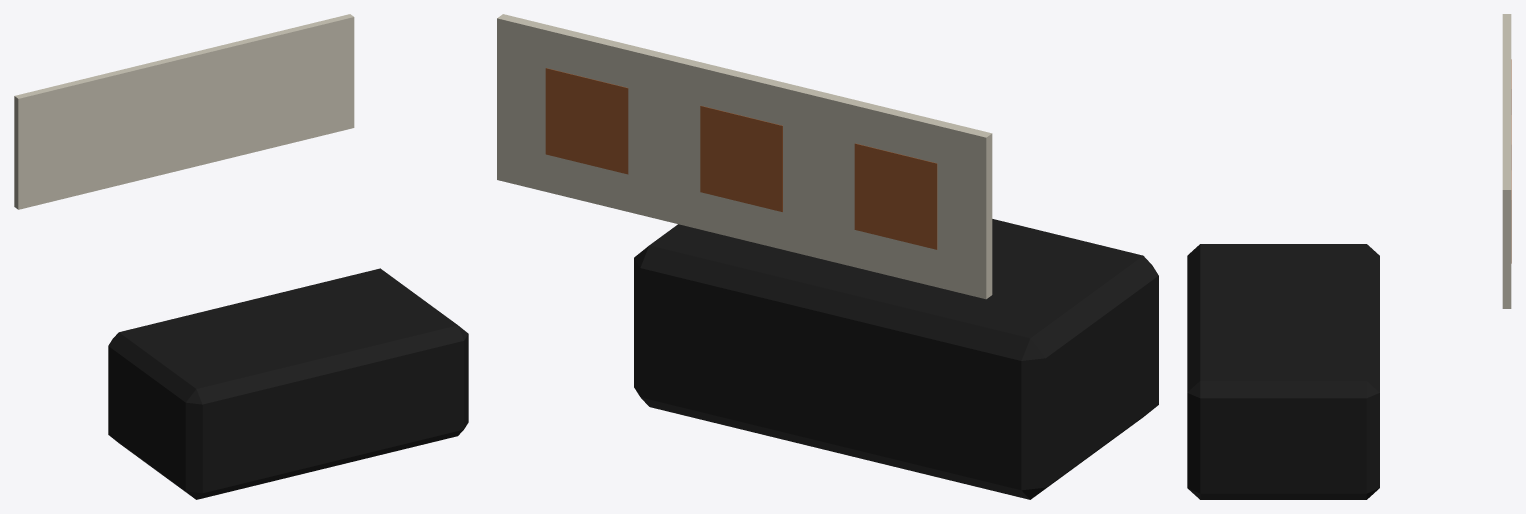
Rendered from kt1_busbar.obj.
3 renders of one model, left to right at view 1: azimuth 30°, elevation 25°; view 2: azimuth 150°, elevation 25°; view 3: azimuth 270°, elevation 25°, orthographic. The views are drawn at different scales.
Visible parts, largest first — view 1: kt1_busbar; view 2: kt1_busbar; view 3: kt1_busbar.
Part boxes in pixels (<box>): kt1_busbar: <box>14,14,468,499</box>; kt1_busbar: <box>497,14,1158,499</box>; kt1_busbar: <box>1187,14,1511,499</box>.
Bounding box in the file's own units: 0.95 × 0.83 × 0.741.
